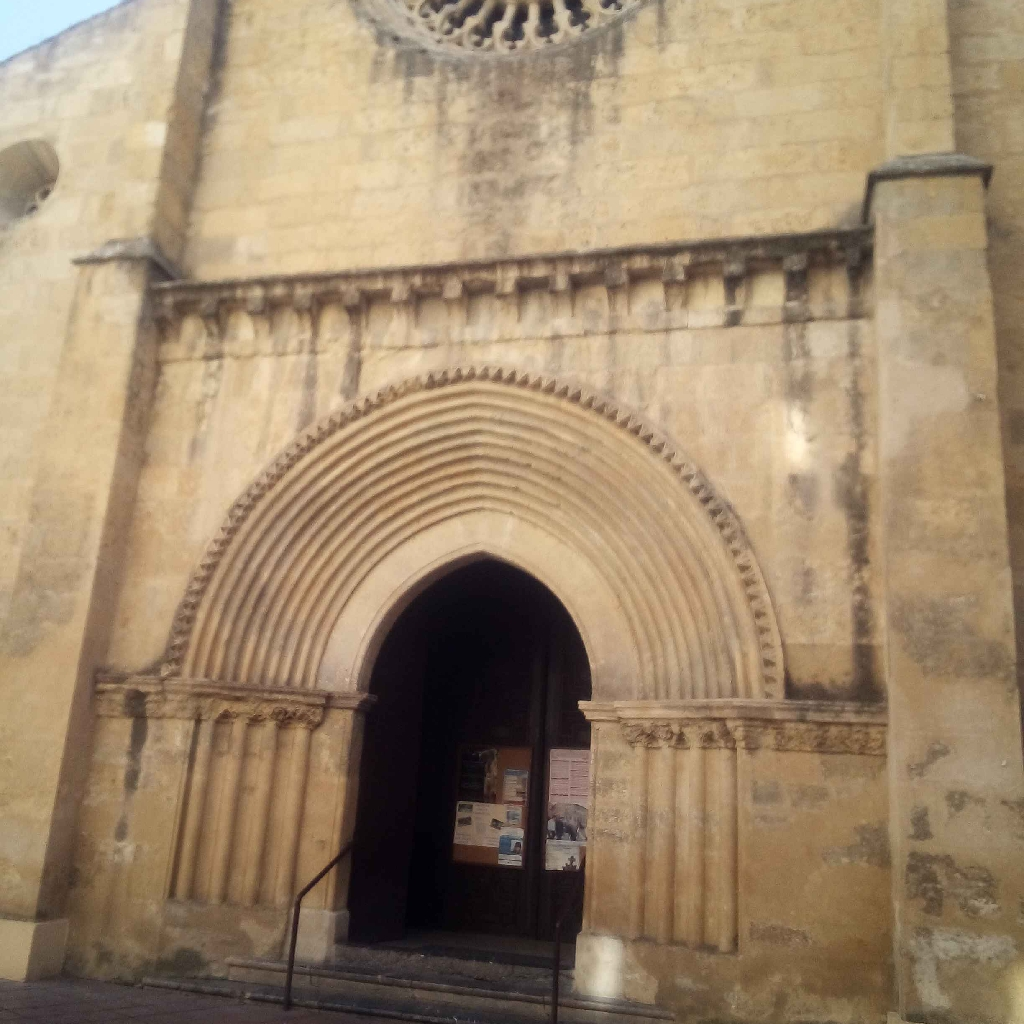arco-apuntado: (360, 542, 595, 718)
